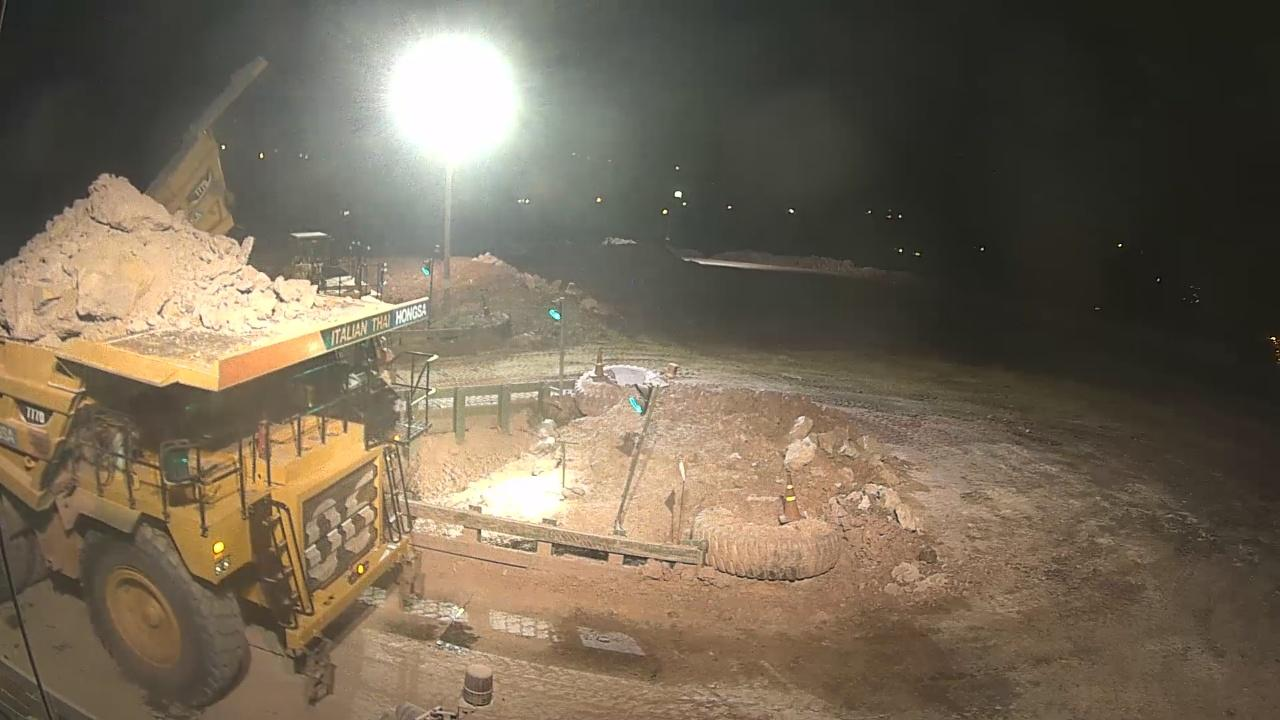dumping_soil: (134, 28, 274, 260)
front_number: (293, 457, 392, 586)
full_load: (10, 171, 278, 358)
mining_truck: (0, 161, 430, 692)
truck_size: (13, 400, 59, 430)
